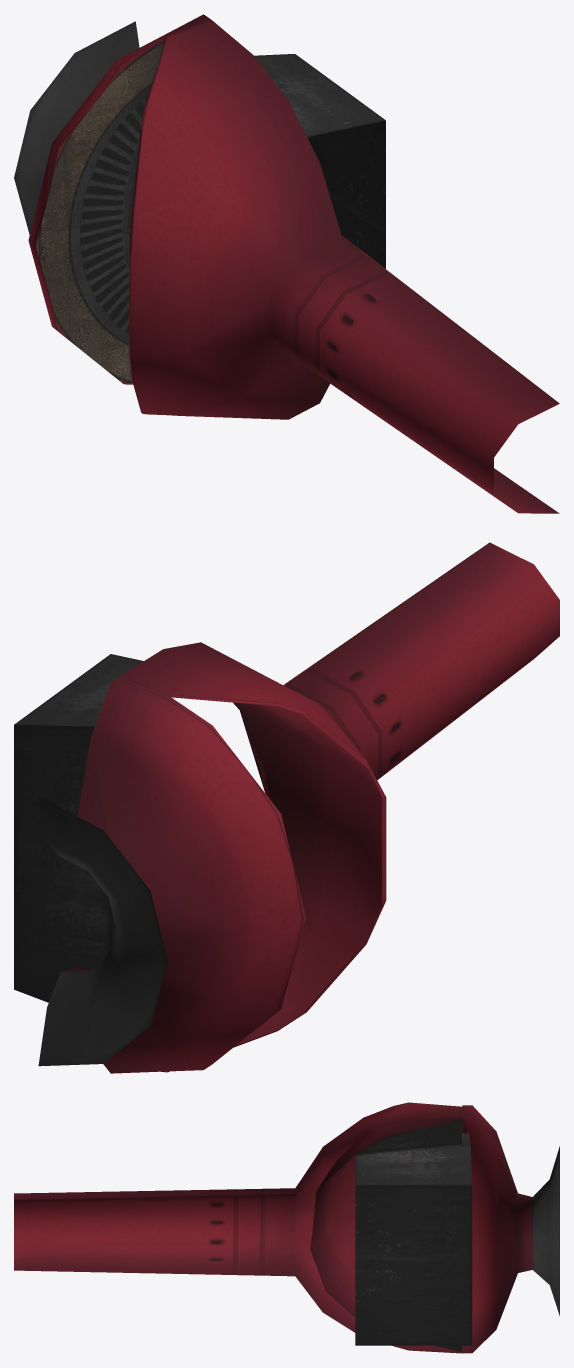
Rendered from nt_2020_fireplace_01_LOD1.obj.
3 renders of one model, top to bottom at view 1: azimuth 30°, elevation 25°; view 2: azimuth 150°, elevation 25°; view 3: azimuth 270°, elevation 25°, orthographic. The views are drawn at different scales.
Visible parts, largest first — view 1: mtl_nt_2020_fireplace_01; view 2: mtl_nt_2020_fireplace_01; view 3: mtl_nt_2020_fireplace_01.
Boxes of the visible parts, x1,y1,x2,y2 form: mtl_nt_2020_fireplace_01: (14, 14, 559, 513); mtl_nt_2020_fireplace_01: (14, 542, 559, 1073); mtl_nt_2020_fireplace_01: (14, 1102, 559, 1353).
Bounding box in the file's own units: 121 × 159 × 332.
